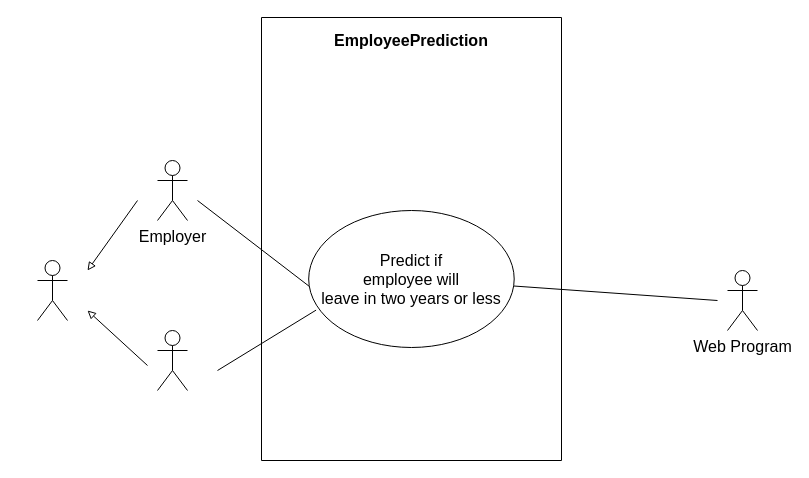
This 809x478 diagram has some shape labels left out. Each missing label, with the centre of its shape:
"Employee" belongs at [172,360].
"Web User" belongs at [52,290].
